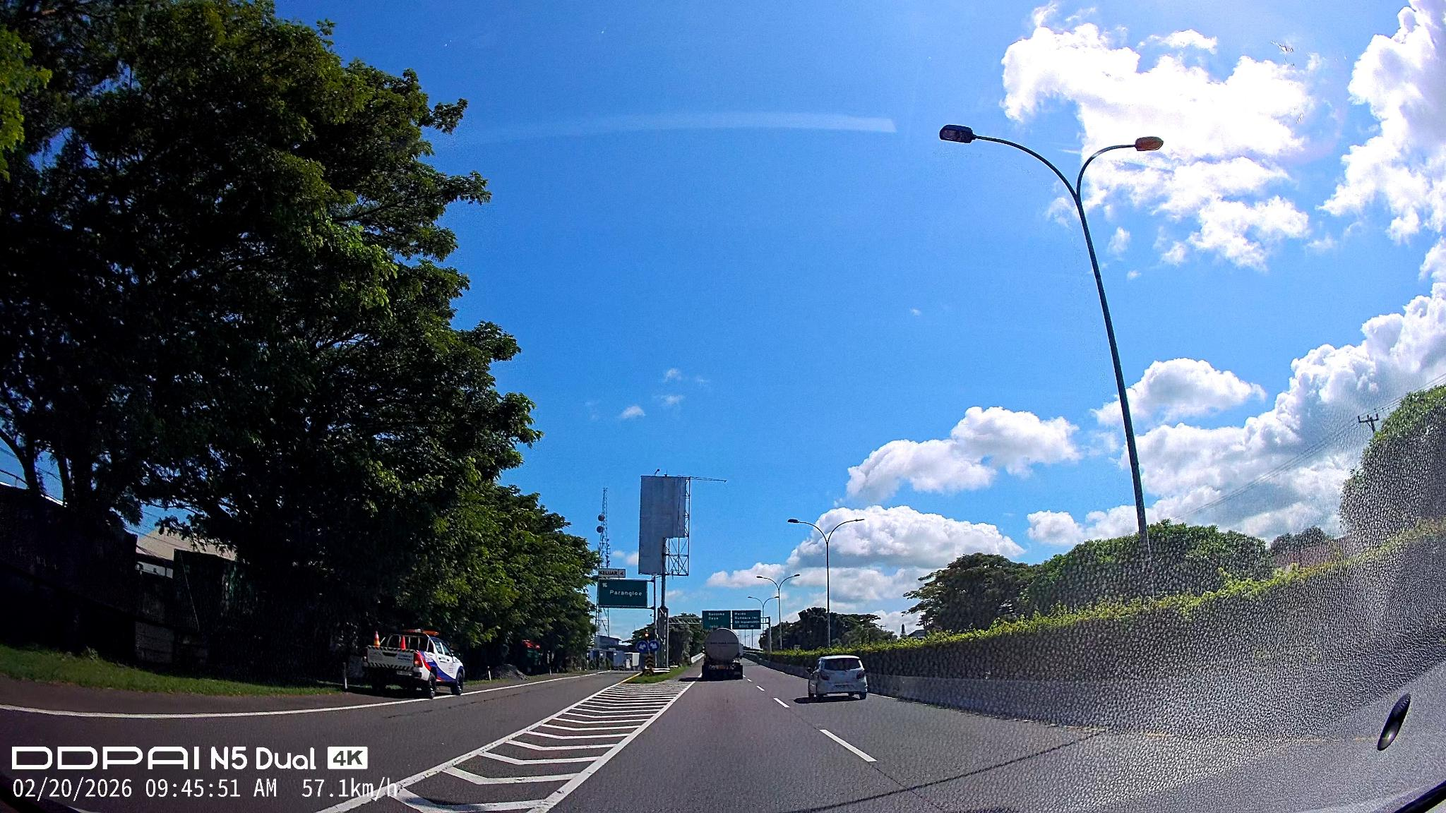rambu_teks: (597, 578, 648, 609)
